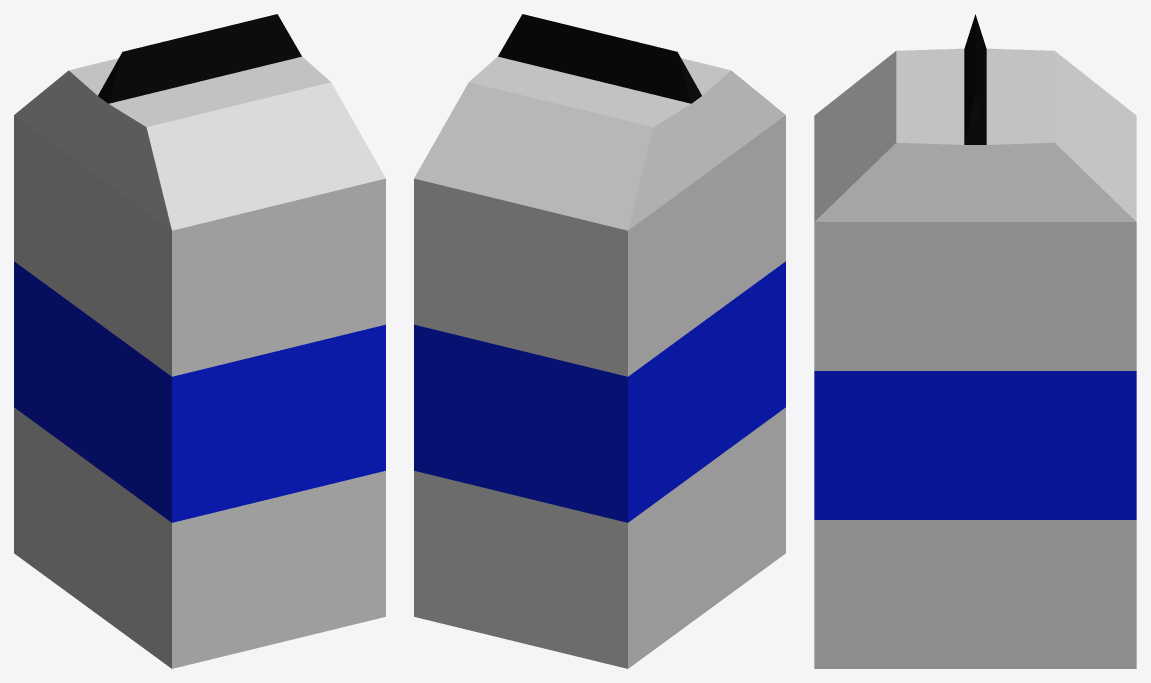
File: Milk.fbx
The picture shows the model from 3 angles, left to right: view 1: azimuth 30°, elevation 25°; view 2: azimuth 150°, elevation 25°; view 3: azimuth 270°, elevation 25°; orthographic projection.
Parts seen in each view (by area): view 1: Mlk; view 2: Mlk; view 3: Mlk.
Boxes of the visible parts, bbox=[...] form: Mlk: bbox=[14, 14, 385, 668]; Mlk: bbox=[414, 14, 785, 668]; Mlk: bbox=[814, 14, 1136, 668].
Bounding box in the file's own units: 166 × 409 × 212.
